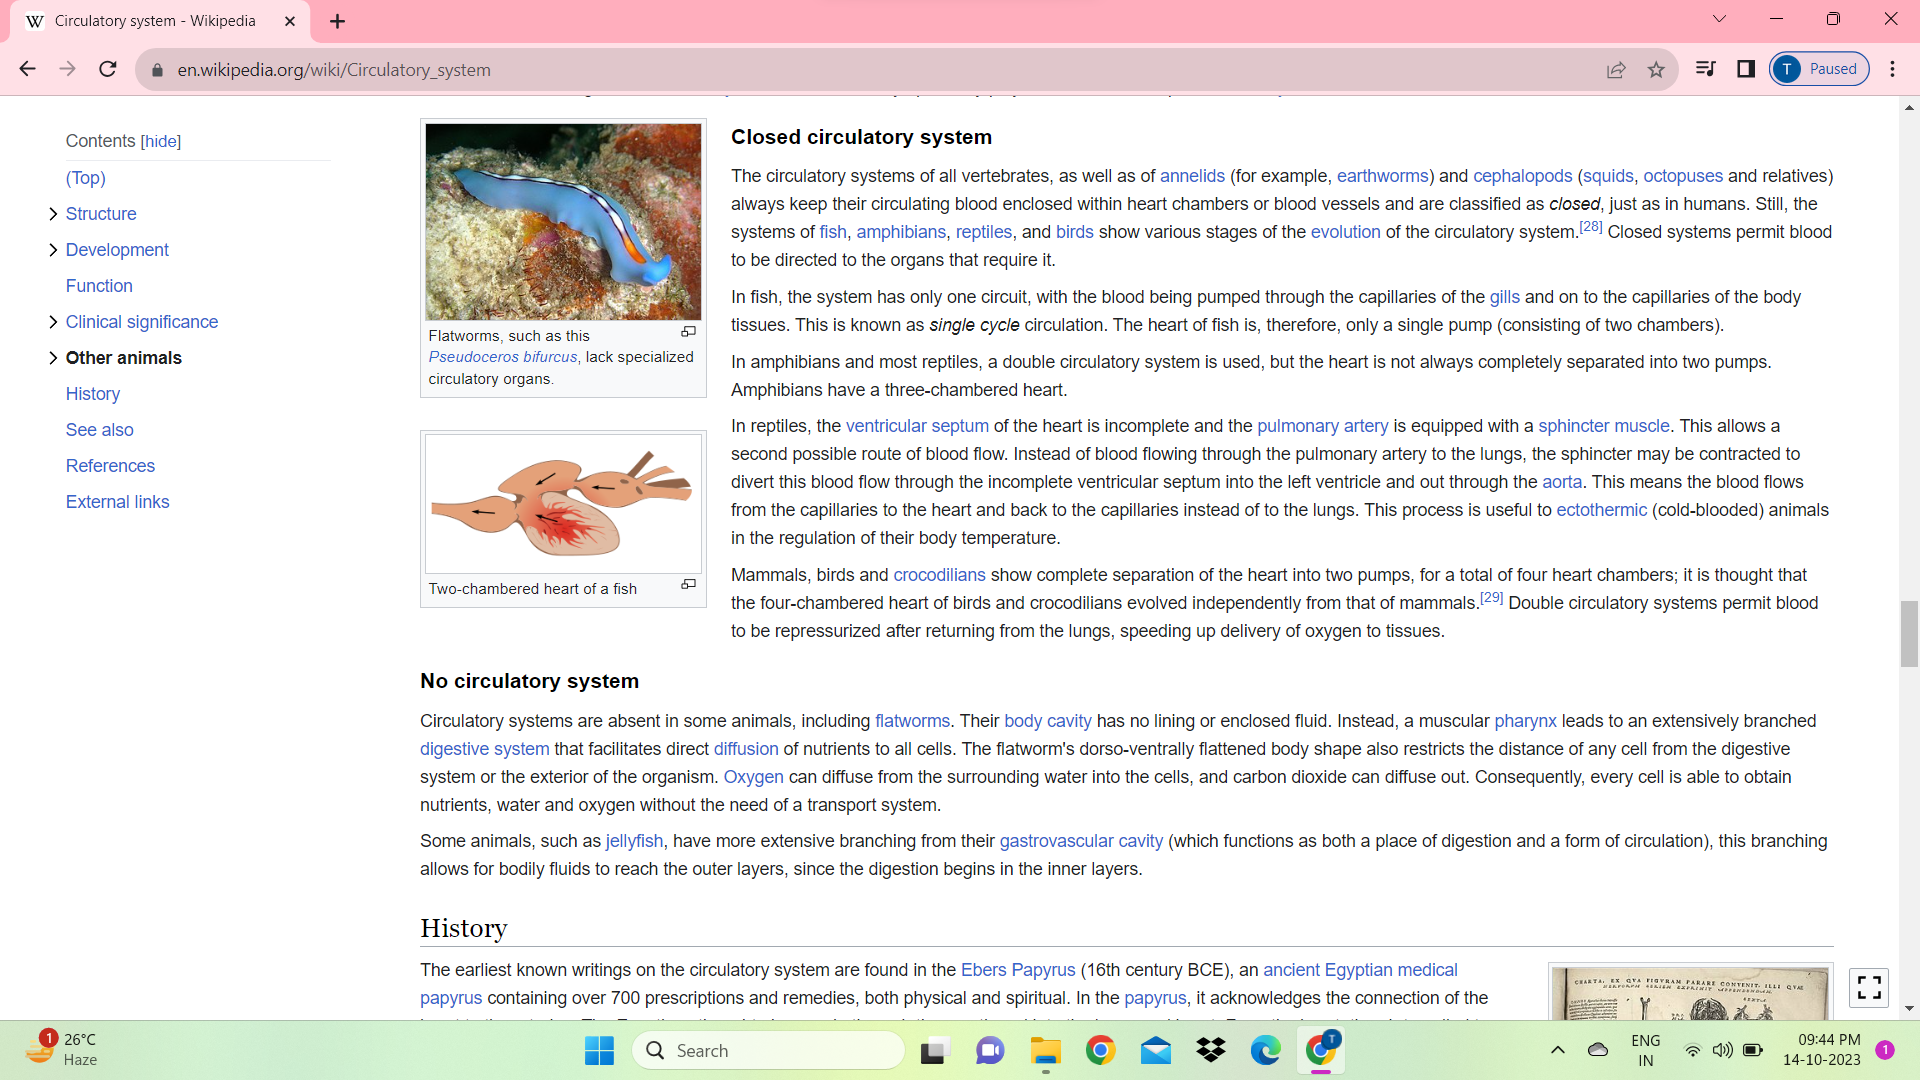Image: (411, 105, 712, 328), (417, 421, 712, 572)
Paragraph: (720, 406, 1851, 556), (394, 708, 1875, 818), (715, 160, 1892, 272), (715, 276, 1805, 393), (723, 566, 1866, 651), (404, 824, 1887, 885), (380, 953, 1513, 1021), (397, 332, 715, 393), (723, 116, 1004, 160), (404, 658, 649, 702), (61, 339, 216, 380), (394, 899, 529, 945), (58, 483, 179, 529), (65, 231, 173, 265), (62, 128, 194, 156), (58, 272, 146, 298), (61, 421, 153, 444)
